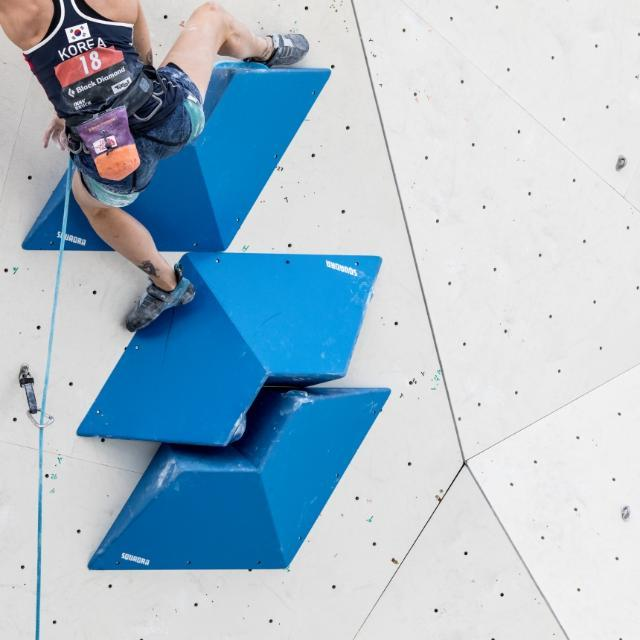Crimp: (230, 416, 247, 442), (214, 62, 268, 68), (286, 389, 308, 397)
Volume: (76, 251, 382, 447), (21, 68, 332, 252), (86, 386, 392, 572)
